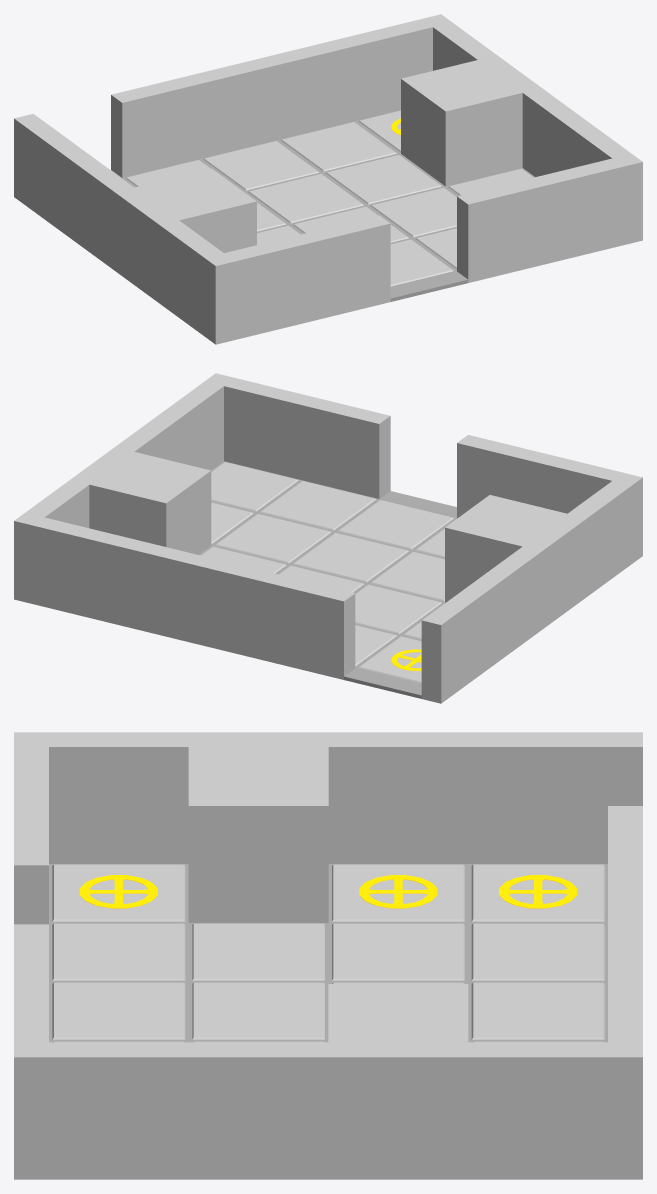
File: room.glb
3 renders of one model, top to bottom at view 1: azimuth 30°, elevation 25°; view 2: azimuth 150°, elevation 25°; view 3: azimuth 270°, elevation 25°, orthographic. The views are drawn at different scales.
Parts seen in each view (by area): view 1: f_wall, floor, r_wall, b2_wall, b1_wall, column1, l_wall, column2; view 2: f_wall, floor, r_wall, b2_wall, column1, l_wall, b1_wall, column2; view 3: l_wall, floor, r_wall, column2, f_wall, column1, b1_wall, earthSymbol, b2_wall.
Boxes of the visible parts, left/top/right/bottom form: f_wall: left=111, top=14, right=451, bottom=177; floor: left=111, top=110, right=534, bottom=301; r_wall: left=14, top=113, right=235, bottom=344; b2_wall: left=457, top=158, right=623, bottom=282; b1_wall: left=224, top=215, right=390, bottom=339; column1: left=401, top=60, right=522, bottom=186; l_wall: left=433, top=22, right=642, bottom=244; column2: left=134, top=168, right=256, bottom=252; f_wall: left=14, top=512, right=355, bottom=679; floor: left=199, top=461, right=457, bottom=698; r_wall: left=421, top=472, right=642, bottom=703; b2_wall: left=224, top=378, right=390, bottom=498; column1: left=89, top=452, right=211, bottom=554; l_wall: left=25, top=373, right=234, bottom=528; b1_wall: left=457, top=435, right=622, bottom=518; column2: left=445, top=495, right=566, bottom=602; l_wall: left=14, top=1042, right=607, bottom=1179; floor: left=49, top=864, right=607, bottom=1042; r_wall: left=14, top=732, right=642, bottom=863; column2: left=188, top=747, right=328, bottom=922; f_wall: left=608, top=806, right=642, bottom=1179; column1: left=328, top=984, right=468, bottom=1042; b1_wall: left=14, top=747, right=48, bottom=924; earthSymbol: left=79, top=875, right=577, bottom=908; b2_wall: left=14, top=924, right=48, bottom=1042.
Size of what is drawn, in the model's own units: 11 by 1.93 by 9.
Materials: 2 (1 with a texture image).
